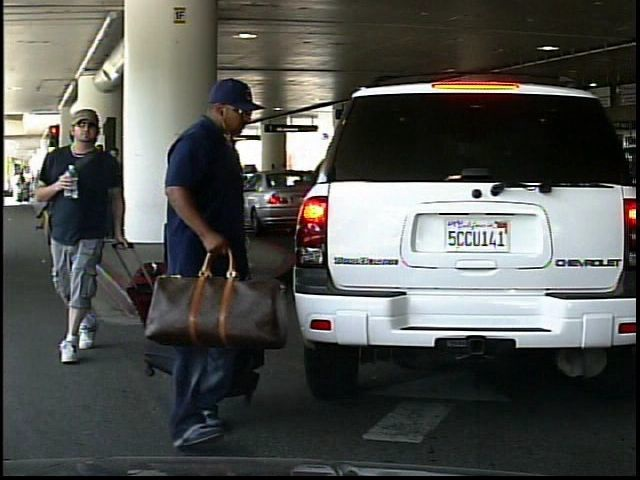person: (153, 75, 282, 447), (41, 101, 131, 362), (163, 130, 226, 271)
